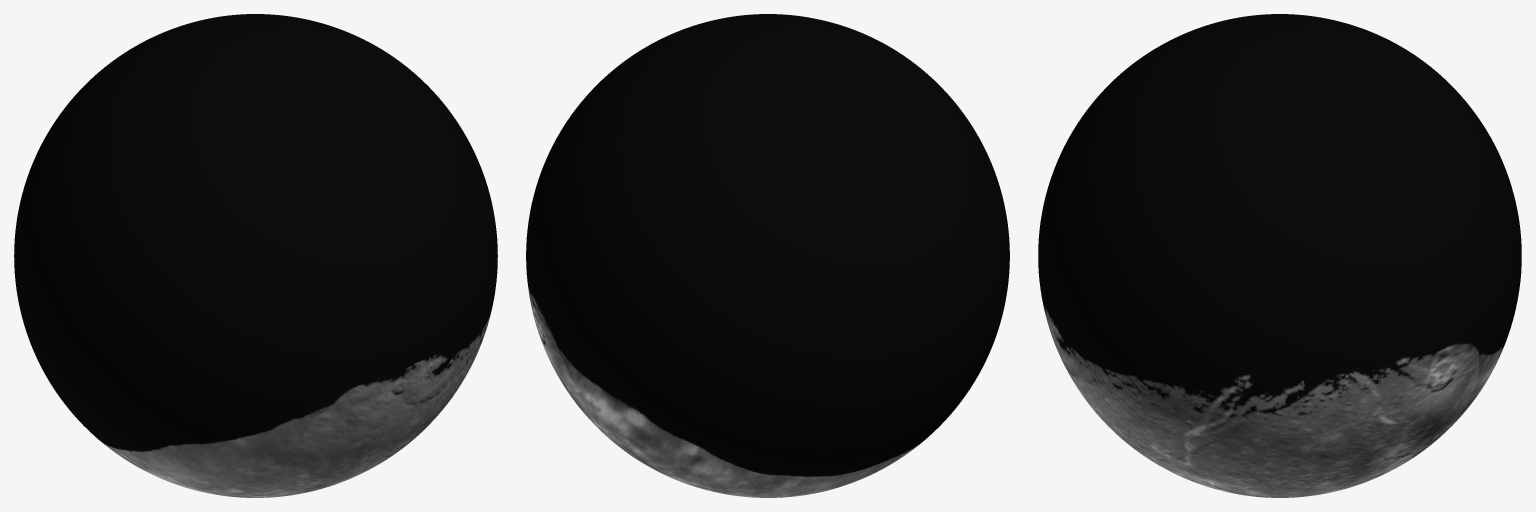
The model's file is titania.glb.
The picture shows the model from 3 angles, left to right: view 1: azimuth 30°, elevation 25°; view 2: azimuth 150°, elevation 25°; view 3: azimuth 270°, elevation 25°; orthographic projection.
Parts seen in each view (by area): view 1: Titania_Asset; view 2: Titania_Asset; view 3: Titania_Asset.
Part boxes in pixels (bbox=[...]): Titania_Asset: bbox=[14, 14, 497, 497]; Titania_Asset: bbox=[526, 14, 1009, 497]; Titania_Asset: bbox=[1038, 14, 1521, 497].
Bounding box in the file's own units: 0.3994 × 0.4 × 0.3994.
Materials: 1 (1 with a texture image).
